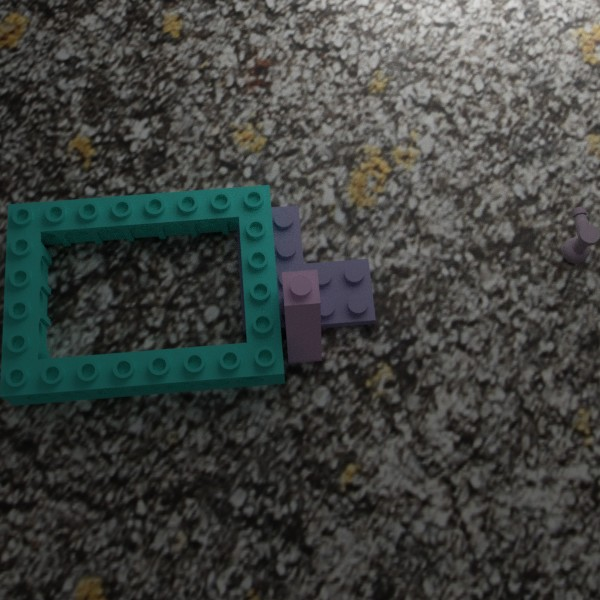lego: (0, 184, 285, 405), (235, 205, 375, 334), (281, 269, 321, 363), (561, 206, 599, 263)
